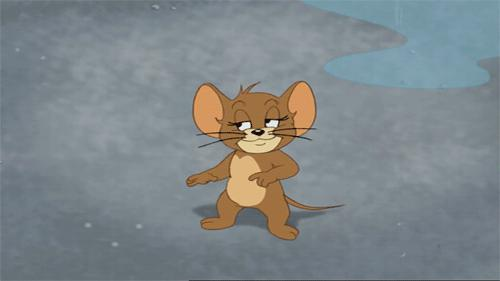jerry: (184, 81, 347, 242)
